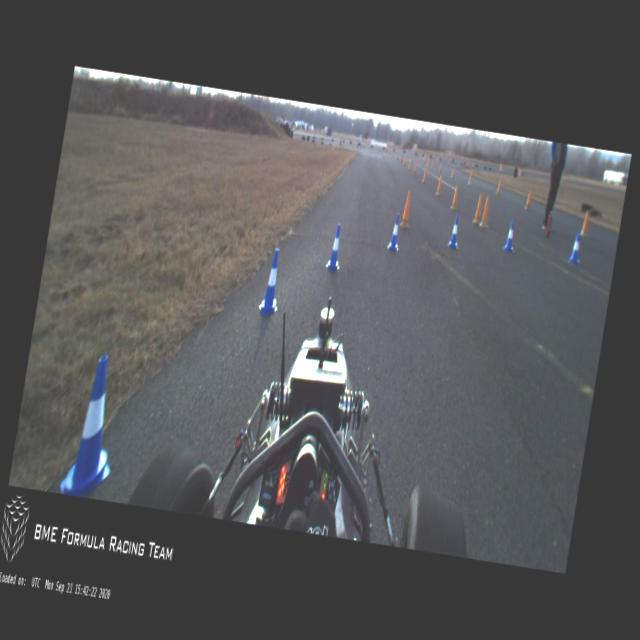blue_cone: (58, 352, 128, 502), (258, 246, 287, 318), (325, 222, 346, 273), (386, 213, 404, 253), (447, 213, 462, 250), (568, 231, 584, 265), (503, 219, 517, 253)
